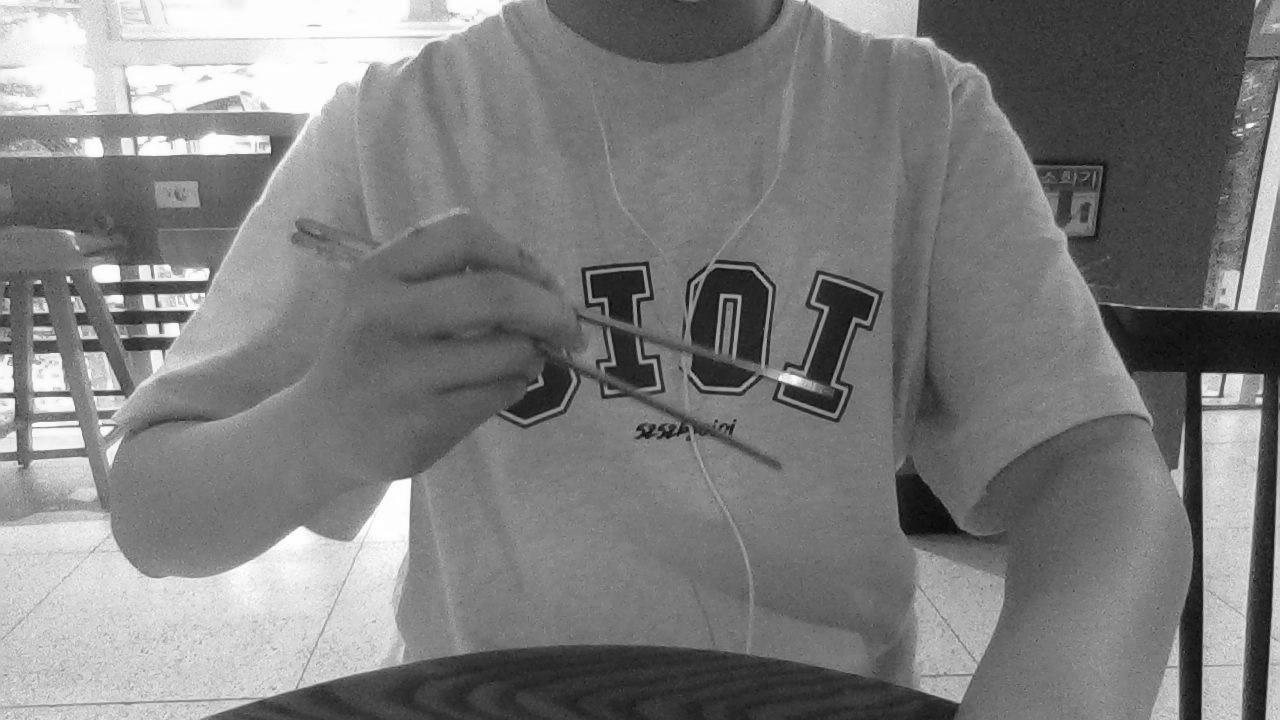chopstick: (289, 233, 784, 475), (295, 216, 840, 399)
hand: (305, 208, 588, 489)
